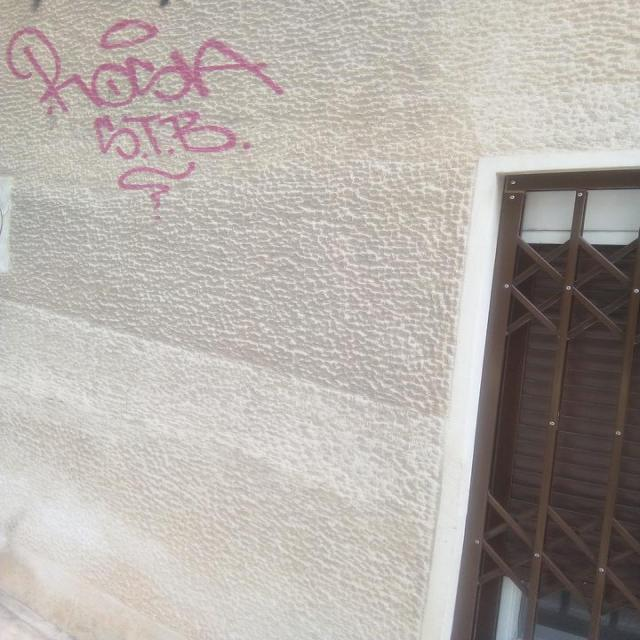nonspitting: (3, 15, 286, 222)
